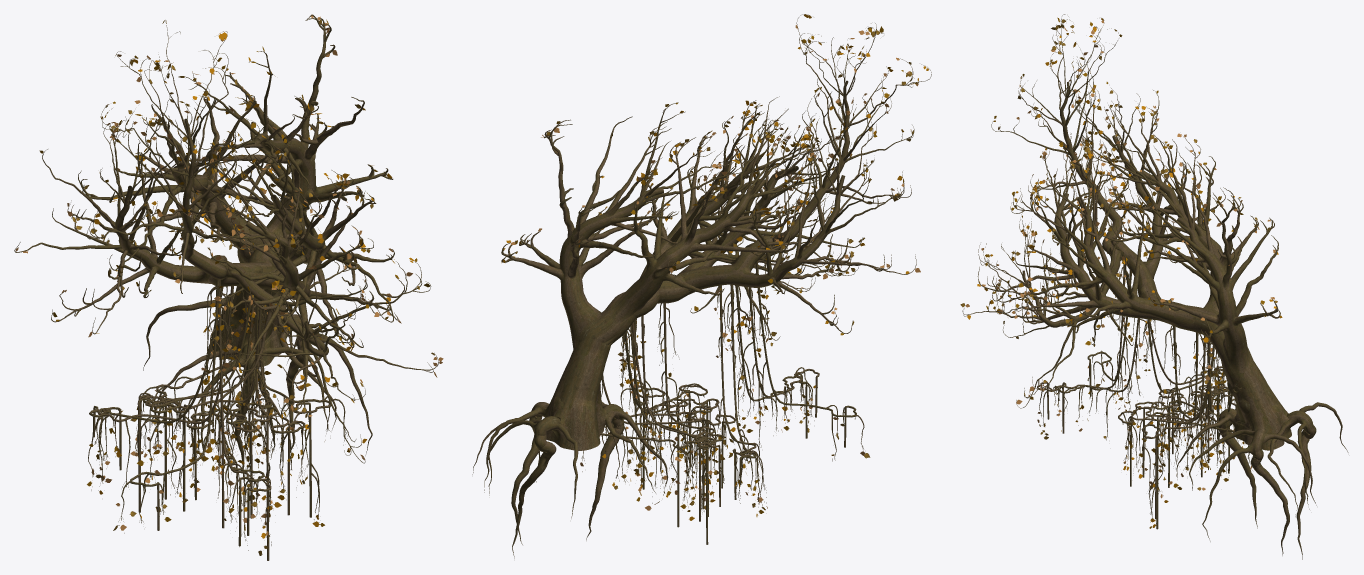
The model's file is fantasy_style_tree.glb.
3 views of the same model, side by side, from view 1: azimuth 30°, elevation 25°; view 2: azimuth 150°, elevation 25°; view 3: azimuth 270°, elevation 25° (orthographic). The views are drawn at different scales.
Parts seen in each view (by area): view 1: Bark_Bark_Mat_0, Leaf_v3_Leaf_v3_Mat_0, Leaf_Leaf_Mat_0, Leaf_v2_Leaf_v2_Mat_0, Leaf_v4_Leaf_v4_Mat_0; view 2: Bark_Bark_Mat_0, Leaf_v3_Leaf_v3_Mat_0, Leaf_Leaf_Mat_0, Leaf_v2_Leaf_v2_Mat_0, Leaf_v4_Leaf_v4_Mat_0; view 3: Bark_Bark_Mat_0, Leaf_v3_Leaf_v3_Mat_0, Leaf_Leaf_Mat_0, Leaf_v2_Leaf_v2_Mat_0, Leaf_v4_Leaf_v4_Mat_0.
Boxes of the visible parts, <box> form: Bark_Bark_Mat_0: <box>14,14,438,560</box>; Leaf_v3_Leaf_v3_Mat_0: <box>15,15,443,535</box>; Leaf_Leaf_Mat_0: <box>72,19,434,555</box>; Leaf_v2_Leaf_v2_Mat_0: <box>80,32,414,538</box>; Leaf_v4_Leaf_v4_Mat_0: <box>39,19,430,526</box>; Bark_Bark_Mat_0: <box>472,14,931,558</box>; Leaf_v3_Leaf_v3_Mat_0: <box>510,25,920,510</box>; Leaf_Leaf_Mat_0: <box>515,27,918,510</box>; Leaf_v2_Leaf_v2_Mat_0: <box>501,14,928,520</box>; Leaf_v4_Leaf_v4_Mat_0: <box>513,26,916,513</box>; Bark_Bark_Mat_0: <box>962,14,1348,559</box>; Leaf_v3_Leaf_v3_Mat_0: <box>966,20,1275,498</box>; Leaf_Leaf_Mat_0: <box>960,19,1277,490</box>; Leaf_v2_Leaf_v2_Mat_0: <box>967,18,1282,527</box>; Leaf_v4_Leaf_v4_Mat_0: <box>985,17,1264,528</box>.
Bounding box in the file's own units: 9.55 × 13.24 × 10.34.
Materials: 5 (5 with a texture image).
